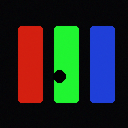2 circle: (53, 70, 65, 82)
